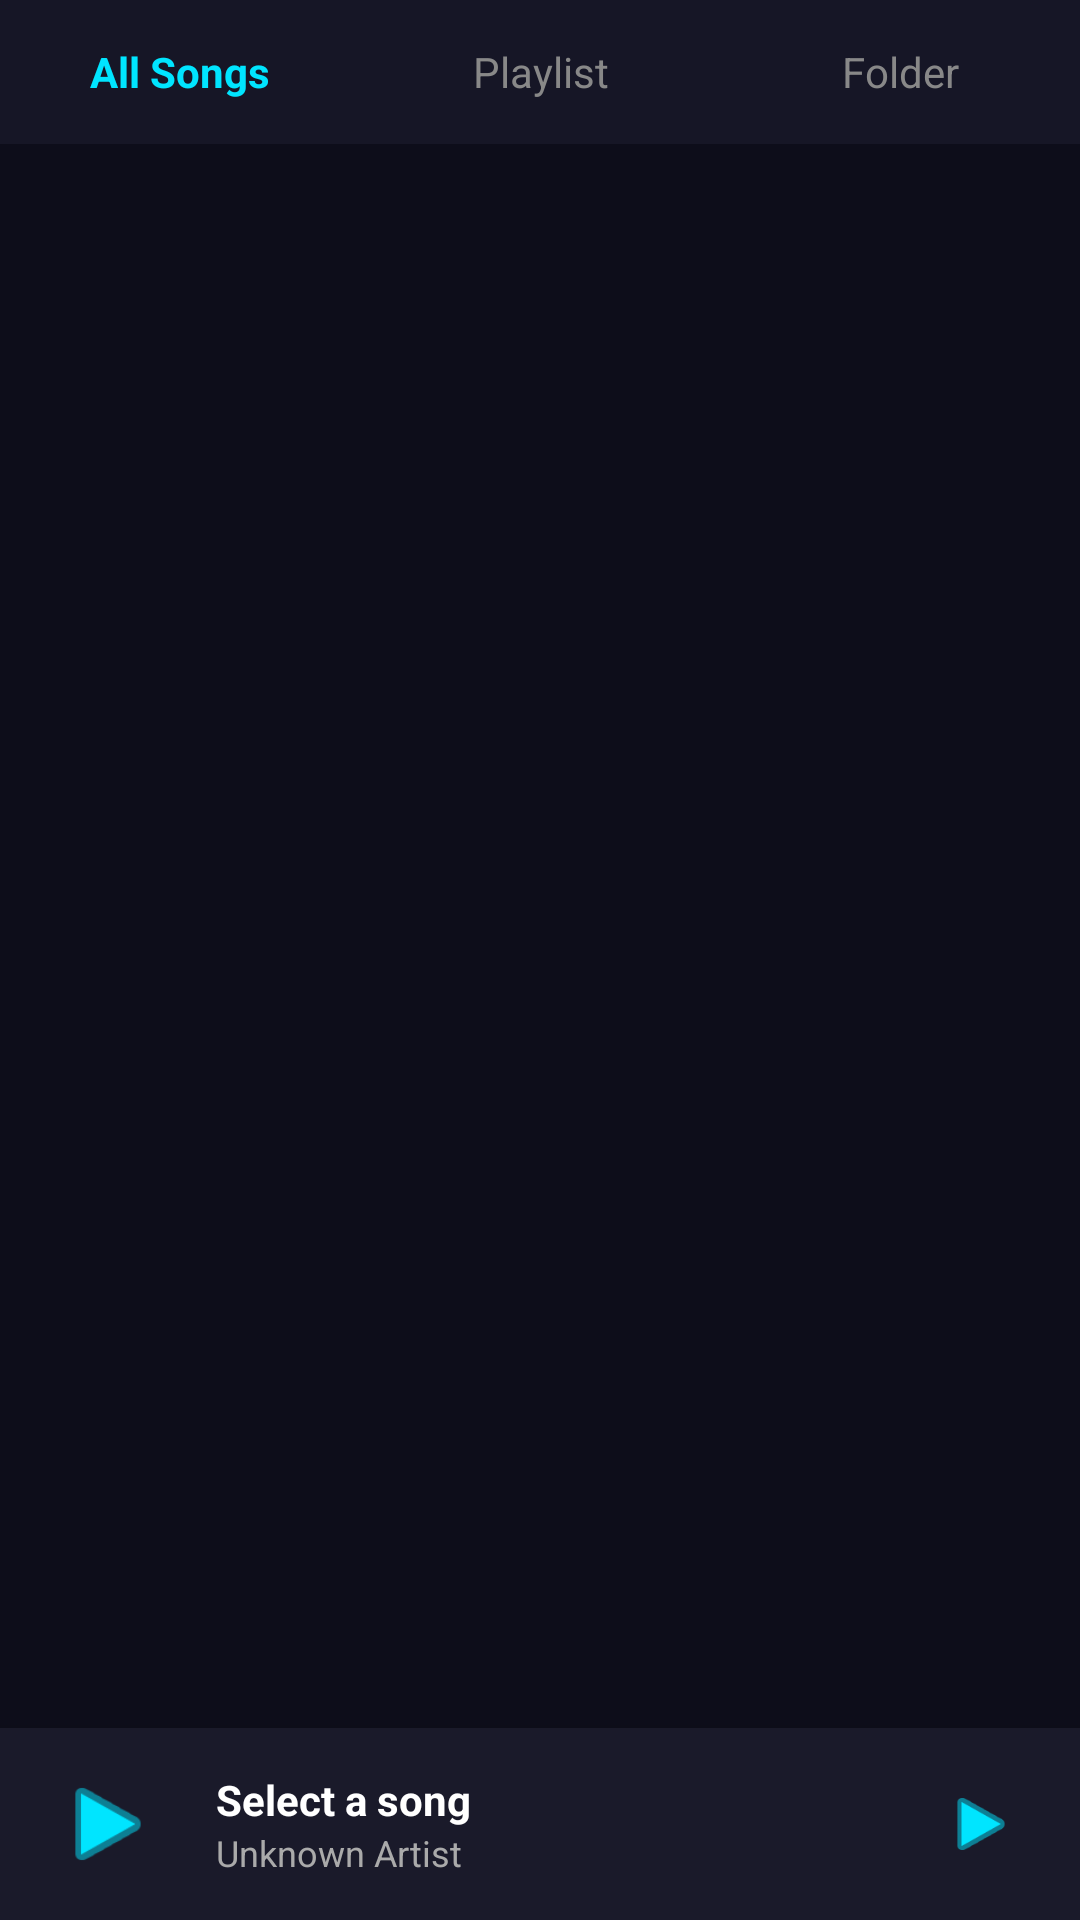

Where to tap for icons on this 1080*1920 app screen, as (x=x, y=y):
Play Pause: (x=981, y=1824)
